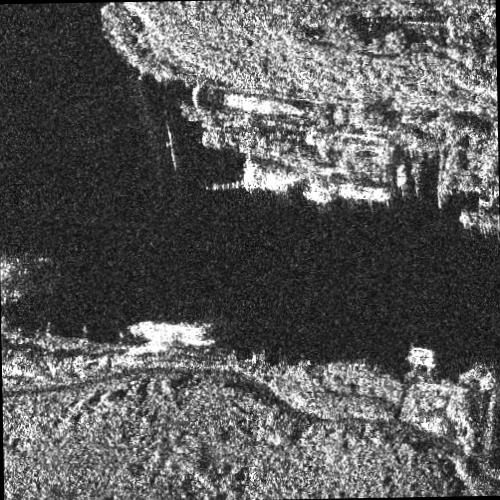ship: (129, 318, 213, 347), (406, 347, 436, 369)
